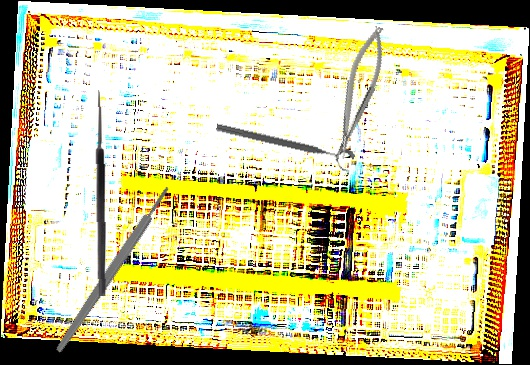Fixation Ring: (213, 119, 356, 174)
Hook Surgical: (84, 89, 108, 297)
Needle Holder: (322, 23, 395, 162)
Scalpel Handle: (53, 184, 173, 355)
